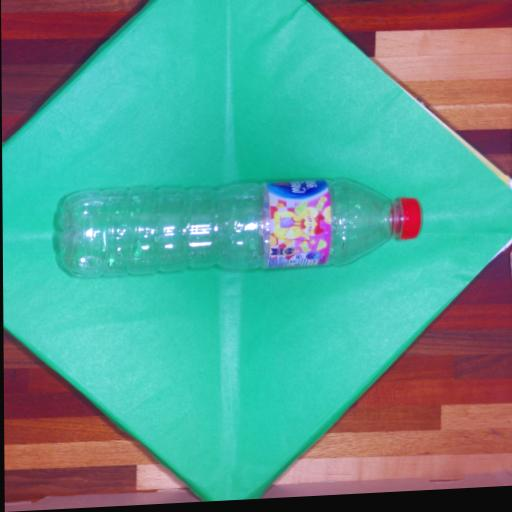bottle: (60, 179, 420, 277)
